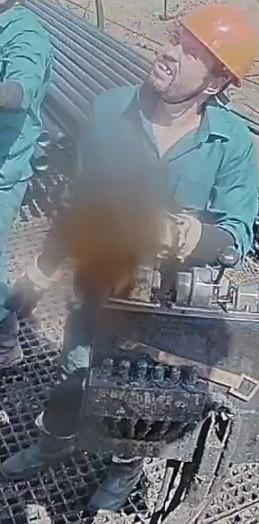gloves: (4, 241, 61, 321), (137, 211, 210, 264)
helmet: (181, 2, 258, 83)
vest: (86, 84, 258, 267), (0, 4, 54, 196)
